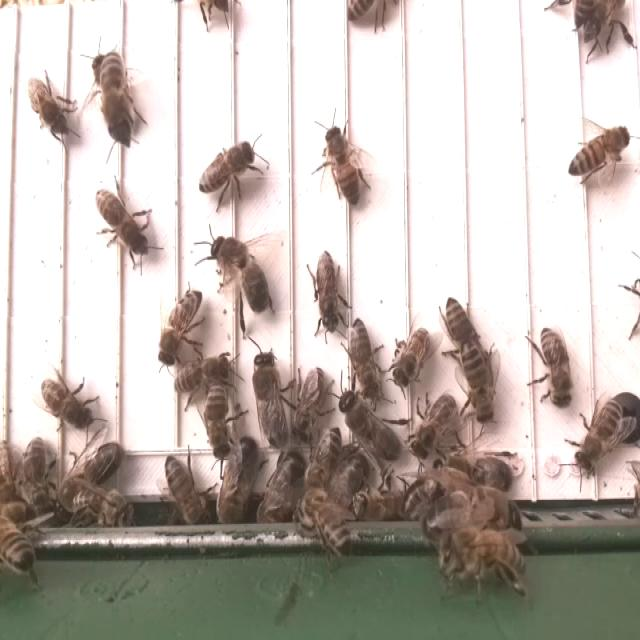Drone: (49, 437, 126, 523), (207, 232, 274, 318), (337, 387, 404, 467), (252, 347, 292, 457), (217, 432, 262, 527)
Worker: (93, 186, 152, 259), (573, 395, 623, 474), (565, 123, 633, 179), (157, 287, 204, 368), (323, 122, 364, 213), (536, 320, 575, 415), (195, 139, 258, 196), (458, 336, 496, 427), (289, 364, 329, 447), (37, 378, 95, 433), (410, 393, 457, 459), (100, 48, 133, 140), (169, 350, 236, 395), (346, 316, 382, 399), (22, 74, 69, 136), (391, 327, 433, 388), (204, 380, 234, 461), (442, 293, 478, 358), (314, 246, 340, 335)
